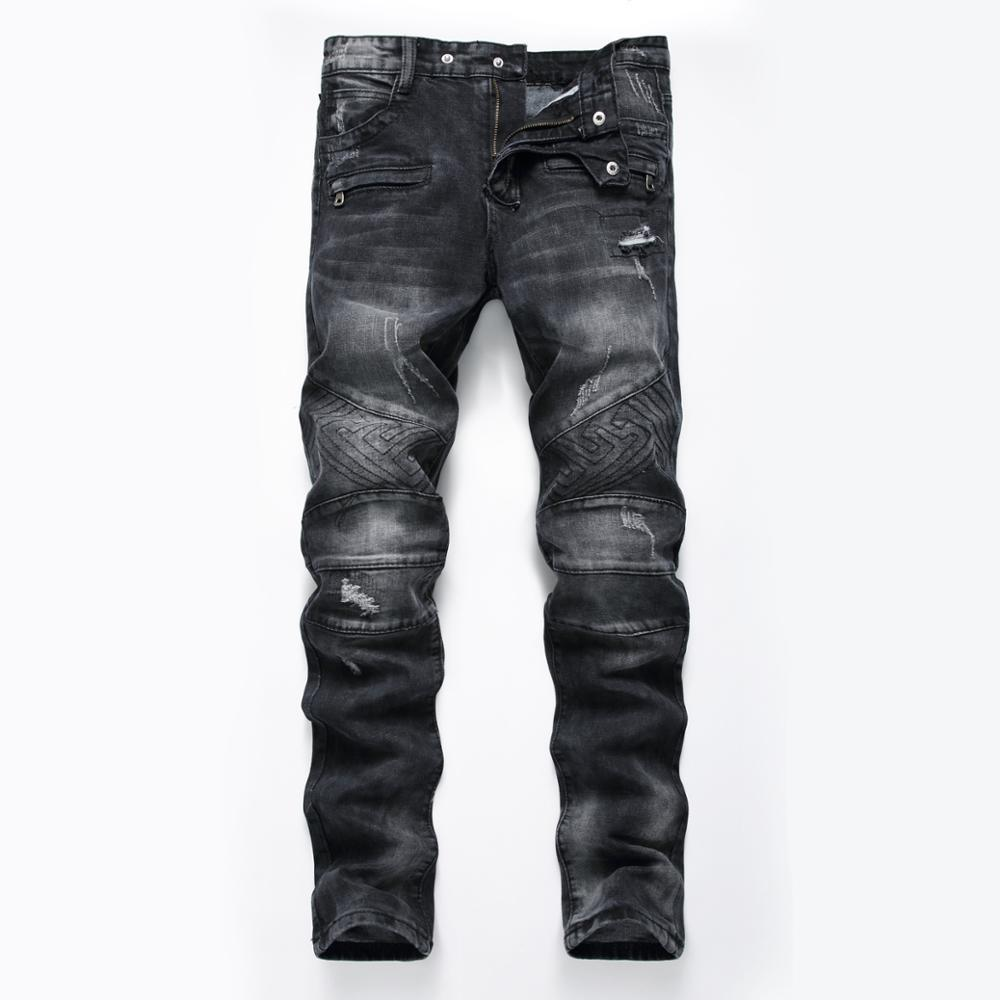jeans: (250, 23, 708, 963)
